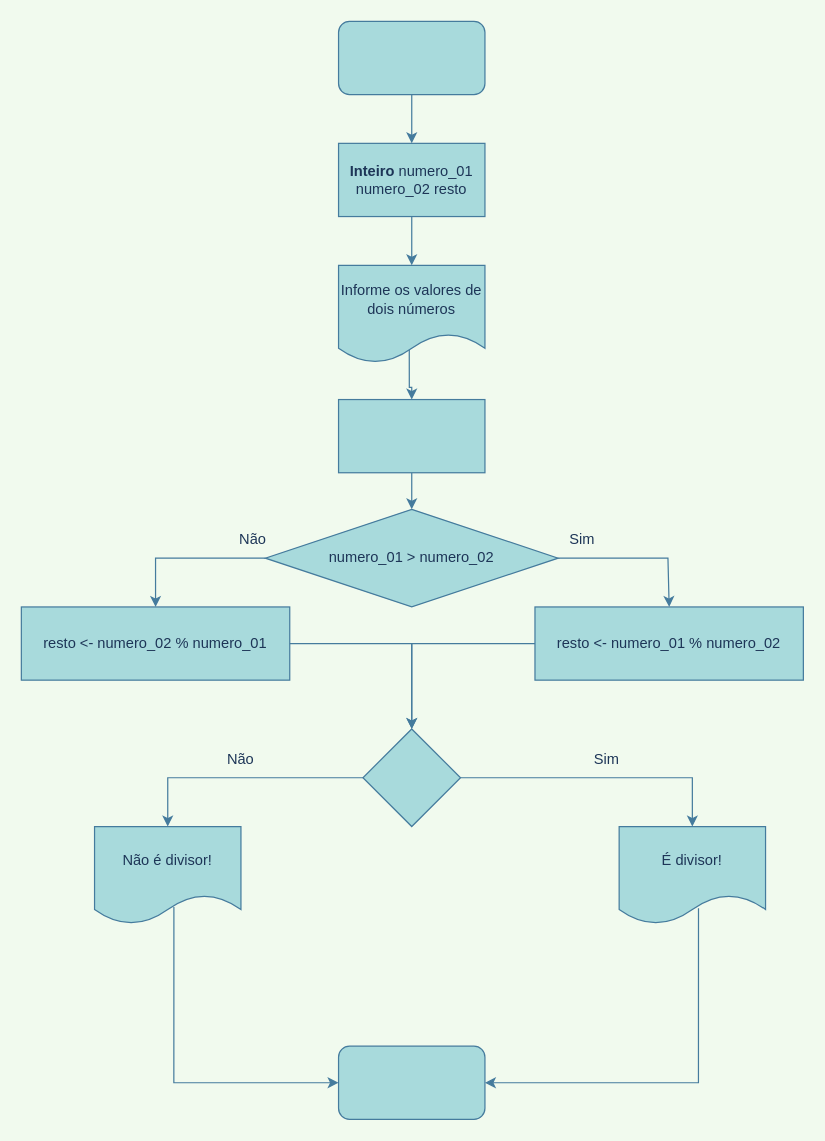
Image size: 825x1141. Some labels were removed from this diagram. Here are the shapes that lost their labels. From the top down, the centre of each, then its label:
At point 411,57: "INÍCIO".
At point 411,435: "Leia numero_01 numero_02".
At point 411,777: "resto == 0".
At point 411,1082: "FIM".
